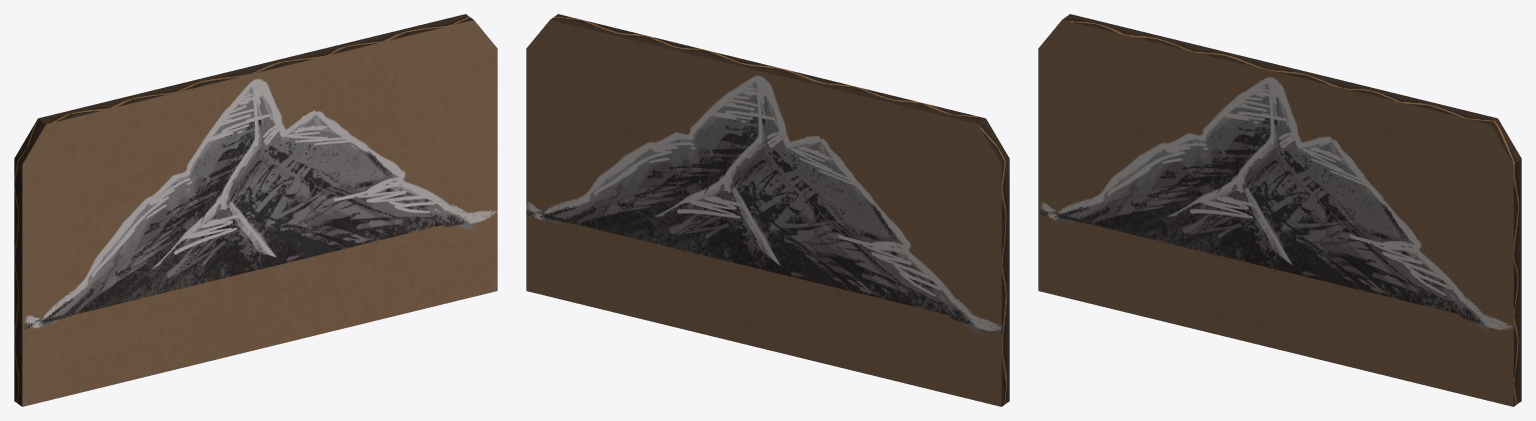
Rendered from ClownCutoutBox.fbx.
The picture shows the model from 3 angles, left to right: view 1: azimuth 30°, elevation 25°; view 2: azimuth 150°, elevation 25°; view 3: azimuth 330°, elevation 25°; orthographic projection.
Visible parts, largest first — view 1: ClownCutouts; view 2: ClownCutouts; view 3: ClownCutouts.
Part boxes in pixels (x1,y1,x2,y2): ClownCutouts: (14,14,497,406); ClownCutouts: (526,14,1009,406); ClownCutouts: (1038,14,1521,406).
Size of the model in its own units: 3.91 by 2.18 by 0.116.
